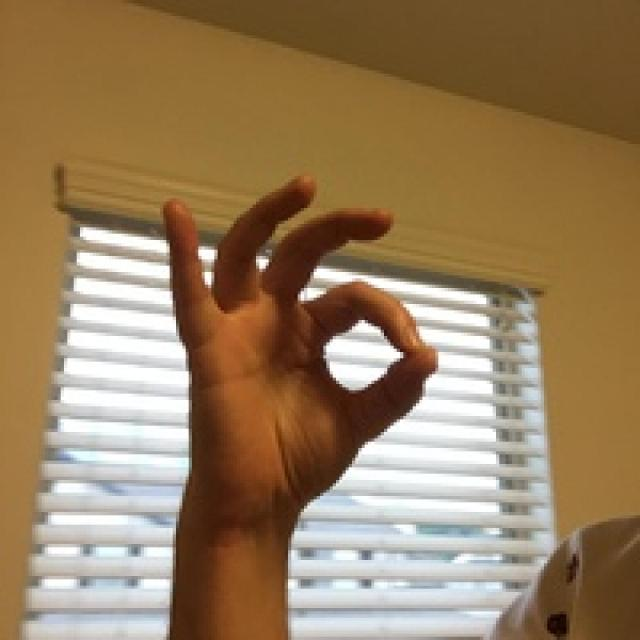F: (105, 109, 466, 608)
